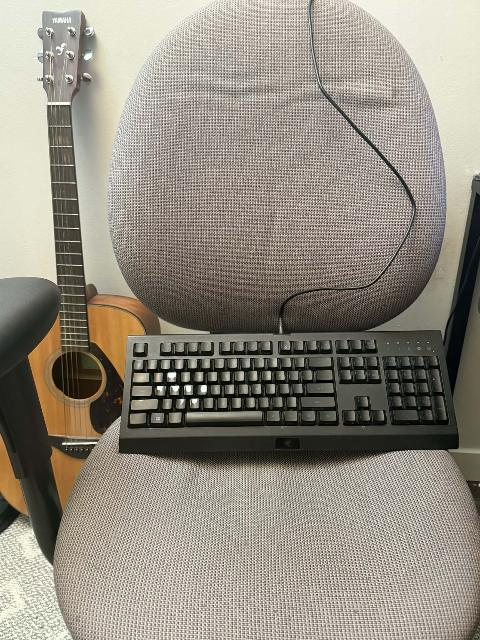ahkeyboard: (114, 321, 466, 461)
